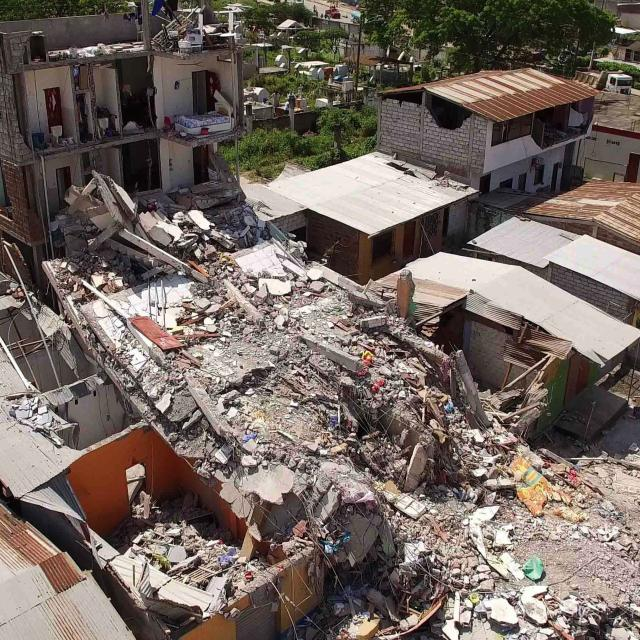collapsed_building: (55, 185, 545, 510)
